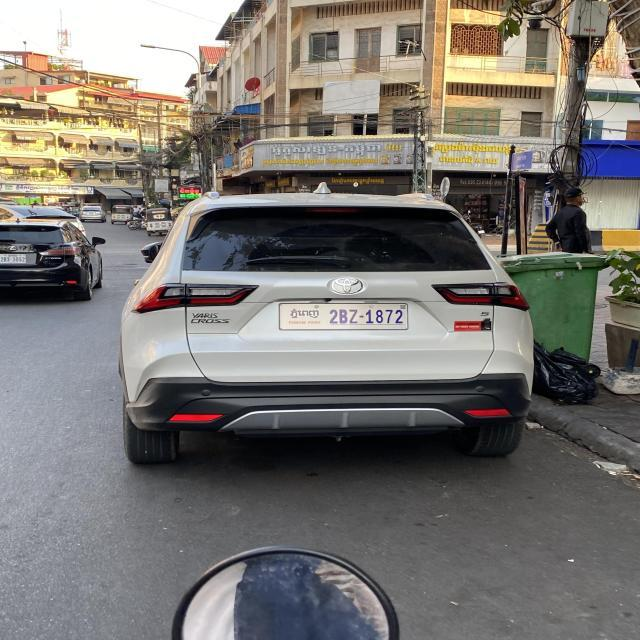Phnom_Penh: (290, 309, 320, 320)
